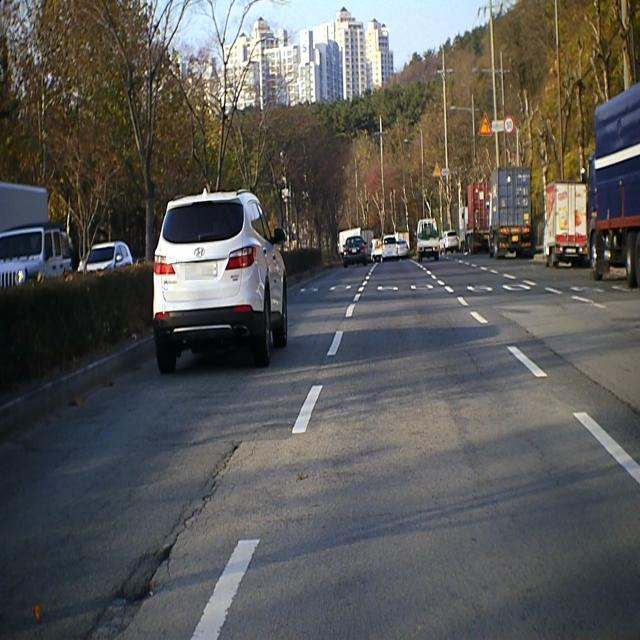Pothole: (102, 542, 173, 638)
